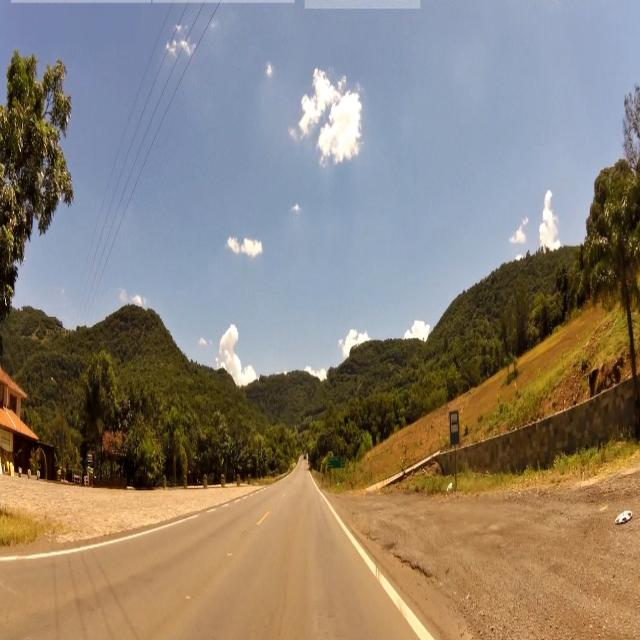S-14: (449, 412, 459, 447)
